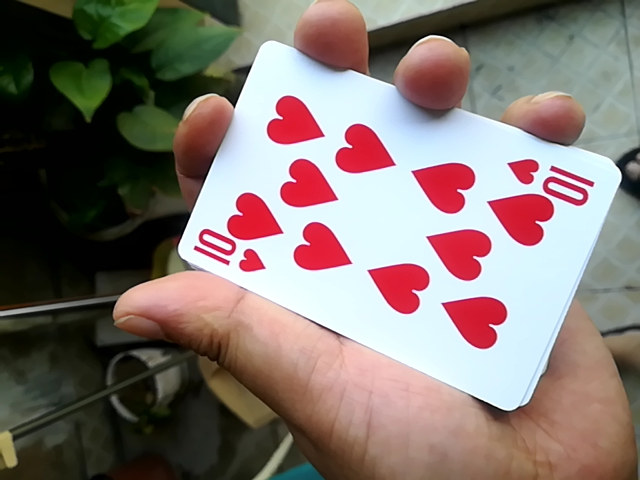hx 10: (176, 35, 616, 402)
